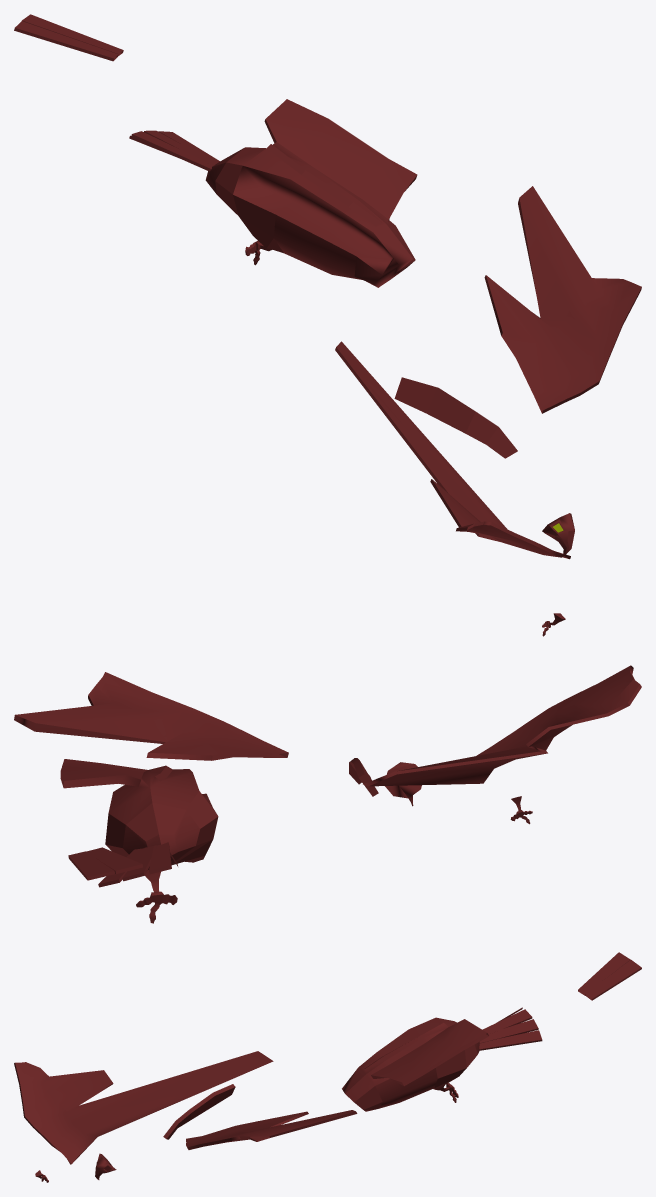
File: hawk_big.fbx
The picture shows the model from 3 angles, top to bottom: view 1: azimuth 30°, elevation 25°; view 2: azimuth 150°, elevation 25°; view 3: azimuth 270°, elevation 25°; orthographic projection. The views are drawn at different scales.
Parts seen in each view (by area): view 1: polySurface9, polySurface6, polySurface1, polySurface3; view 2: polySurface9, polySurface6, polySurface1, polySurface3; view 3: polySurface9, polySurface1, polySurface6, polySurface3.
Boxes of the visible parts, x1,y1,x2,y2 form: polySurface9: (14,14,574,554); polySurface6: (484,186,641,413); polySurface1: (335,341,570,559); polySurface3: (394,377,517,458); polySurface9: (60,759,421,923); polySurface6: (14,672,288,760); polySurface1: (363,665,641,786); polySurface3: (349,758,378,796); polySurface9: (95,952,641,1179); polySurface1: (14,1051,273,1164); polySurface6: (186,1110,357,1149); polySurface3: (163,1084,235,1139).
Size of the model in its own units: 141 by 125 by 354.
